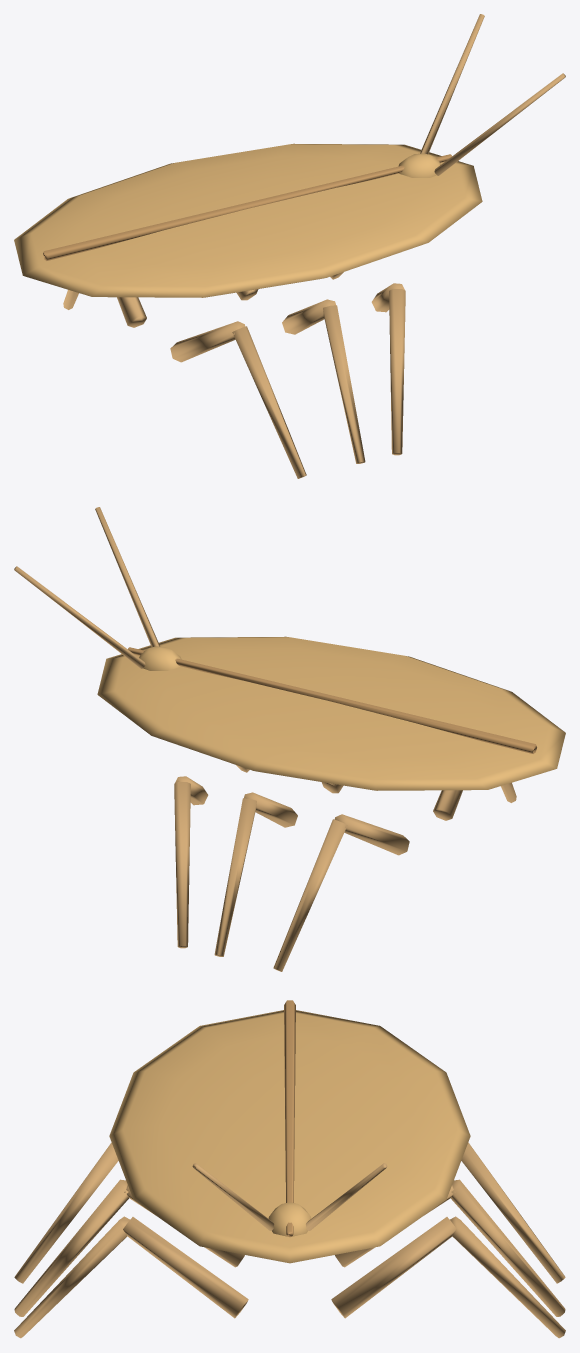
Rendered from autumn-leaf-insect.glb.
3 views of the same model, one above another, from view 1: azimuth 30°, elevation 25°; view 2: azimuth 150°, elevation 25°; view 3: azimuth 270°, elevation 25° (orthographic). The views are drawn at different scales.
Visible parts, largest first — view 1: e; view 2: e; view 3: e.
Boxes of the visible parts, left/top/right/bottom form: e: left=14, top=14, right=565, bottom=478; e: left=14, top=507, right=565, bottom=971; e: left=14, top=1000, right=565, bottom=1338.
Size of the model in its own units: 0.5012 by 0.2558 by 0.4124.
